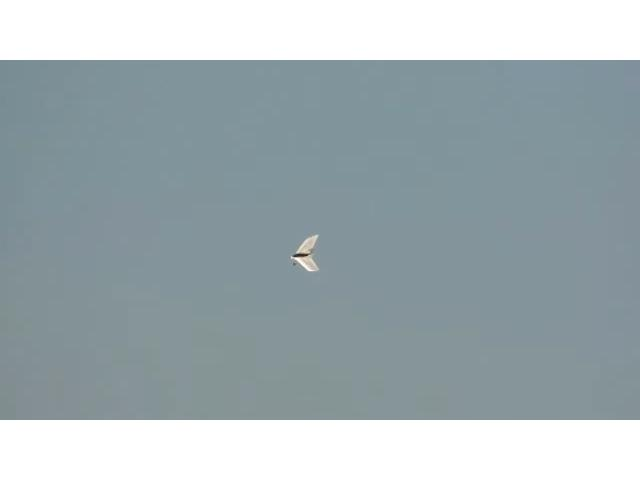Anti-Drone: (292, 236, 320, 272)
